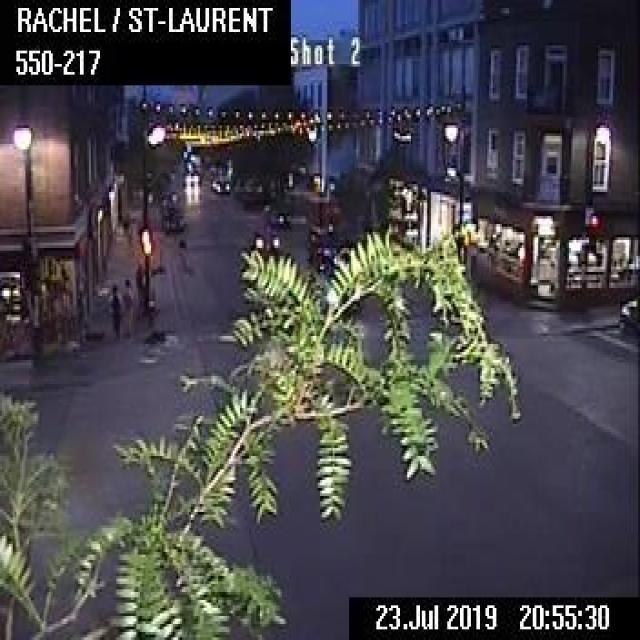pedestrian: (107, 278, 122, 339), (122, 276, 132, 335)
vehicle: (616, 291, 638, 333), (249, 224, 278, 250), (210, 174, 230, 190), (183, 172, 200, 182)
